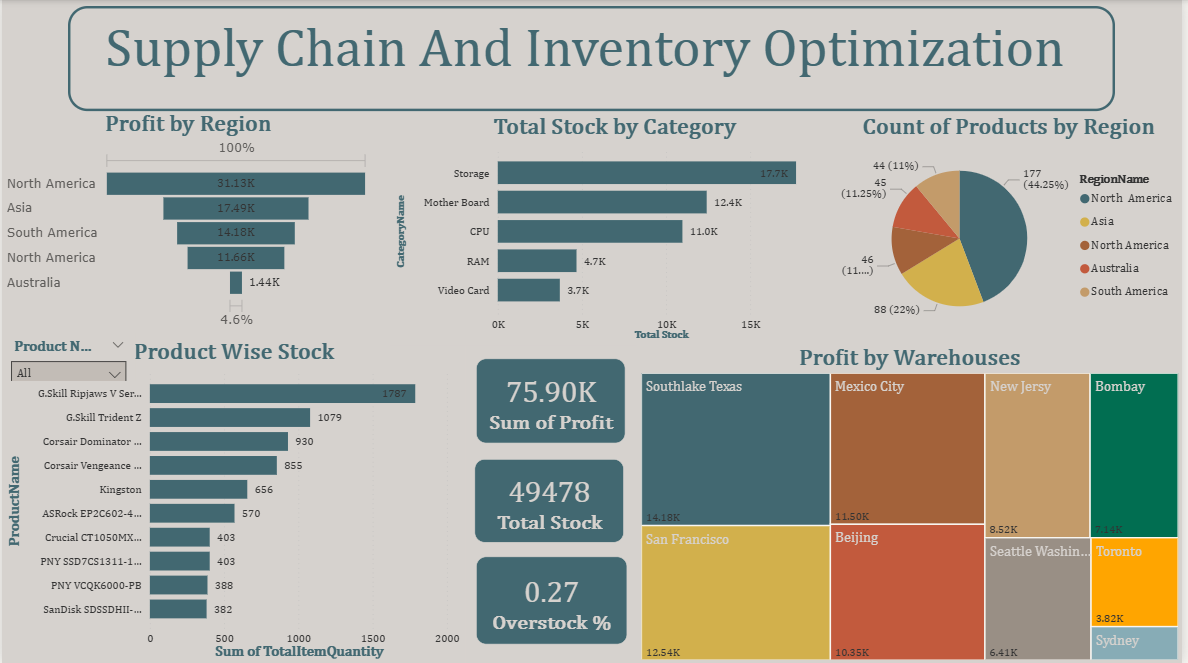

The dashboard page shown, as its layout file describes it:
{"tool":"powerbi","page":{"name":"Page 1","canvas":[1280,720],"ordinal":0},"visuals":[{"type":"clusteredBarChart","title":"Product Wise Stock","fields":{"Category":["ML-Dataset.ProductName"],"Y":["Sum(ML-Dataset.TotalItemQuantity)"]},"box":[0,367.6,502.6,351.3],"z":0},{"type":"clusteredBarChart","title":"Total Stock by Category","fields":{"Category":["ML-Dataset.CategoryName"],"Y":["ML-Dataset.Total Stock"]},"box":[421.3,123.6,486.3,250.5],"z":1000},{"type":"pieChart","title":"Count of Products by Region","fields":{"Category":["ML-Dataset.RegionName"],"Y":["CountNonNull(ML-Dataset.ProductName)"]},"box":[902.7,123.6,377.4,244],"z":2000},{"type":"card","fields":{"Values":["ML-Dataset.Total Stock"]},"box":[512.5,497.1,162.3,90.5],"z":3000},{"type":"card","fields":{"Values":["Sum(ML-Dataset.Profit)"]},"box":[514.2,389.5,162.3,92.2],"z":4000},{"type":"funnel","title":" Profit by Region","fields":{"Category":["ML-Dataset.RegionName"],"Y":["Sum(ML-Dataset.Profit)"]},"box":[0,120.4,403.4,239.1],"z":5000},{"type":"treemap","title":"Profit by Warehouses","fields":{"Group":["ML-Dataset.WarehouseName"],"Values":["Sum(ML-Dataset.Profit)"]},"box":[688,374.1,592.1,346.5],"z":6000},{"type":"textbox","box":[71.6,6.5,1135.3,113.9],"z":7000},{"type":"slicer","fields":{"Values":["ML-Dataset.ProductName"]},"box":[0,361.1,144.8,52],"z":8000},{"type":"card","fields":{"Values":["ML-Dataset.Overstock %"]},"box":[514.2,603,164,95.7],"z":8001}]}

Visuals, with their boxes in screenshot pixels (x1, y1, x2, y2), scaled from the page's 1280x720 canvas onto the 1188x663 screenshot:
"Product Wise Stock" clusteredBarChart: (left=0, top=338, right=466, bottom=662)
"Total Stock by Category" clusteredBarChart: (left=391, top=114, right=842, bottom=344)
"Count of Products by Region" pieChart: (left=838, top=114, right=1187, bottom=338)
card - ML-Dataset.Total Stock: (left=476, top=458, right=626, bottom=541)
card - Sum(ML-Dataset.Profit): (left=477, top=359, right=628, bottom=444)
" Profit by Region" funnel: (left=0, top=111, right=374, bottom=331)
"Profit by Warehouses" treemap: (left=639, top=344, right=1187, bottom=662)
textbox: (left=66, top=6, right=1120, bottom=111)
slicer - ML-Dataset.ProductName: (left=0, top=333, right=134, bottom=380)
card - ML-Dataset.Overstock %: (left=477, top=555, right=629, bottom=643)
